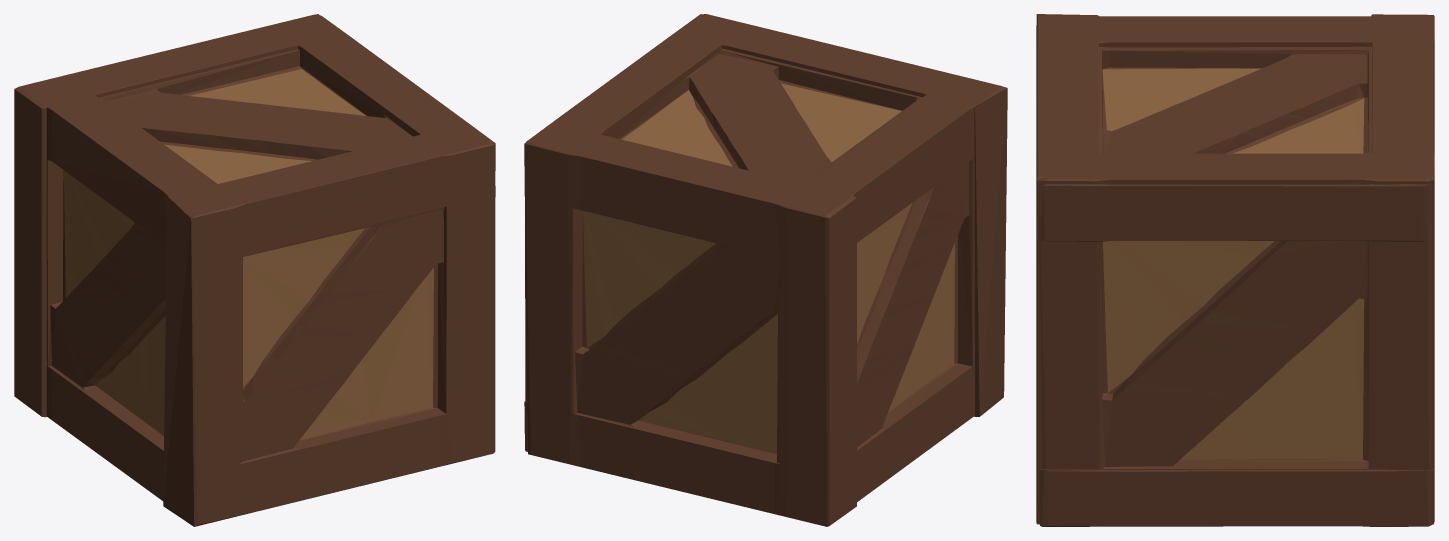
Rendered from prop_crate.fbx.
3 renders of one model, left to right at view 1: azimuth 30°, elevation 25°; view 2: azimuth 150°, elevation 25°; view 3: azimuth 270°, elevation 25°, orthographic. The views are drawn at different scales.
Parts seen in each view (by area): view 1: Cube.001; view 2: Cube.001; view 3: Cube.001.
Part boxes in pixels (x1,y1,x2,y2): Cube.001: [14, 14, 495, 526]; Cube.001: [524, 14, 1007, 526]; Cube.001: [1036, 14, 1434, 526].
Size of the model in its own units: 250 by 241 by 251.
